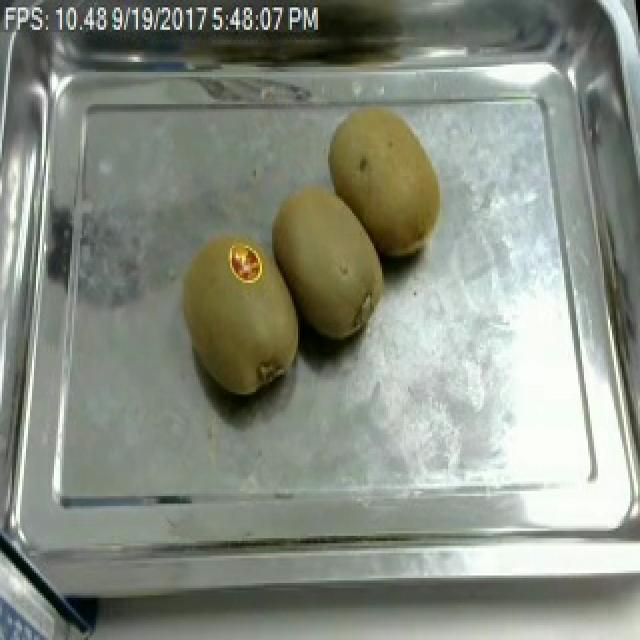Fruit: (176, 226, 310, 402), (320, 97, 454, 268), (264, 174, 396, 347)
